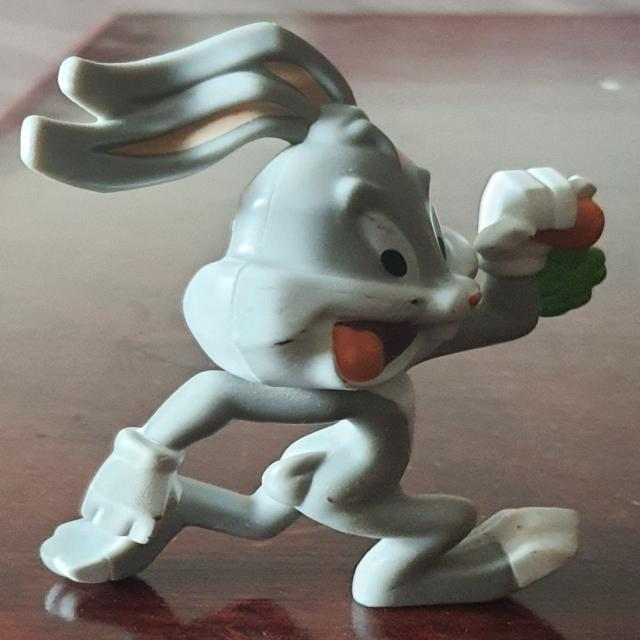Rabbit: (19, 21, 608, 609)
